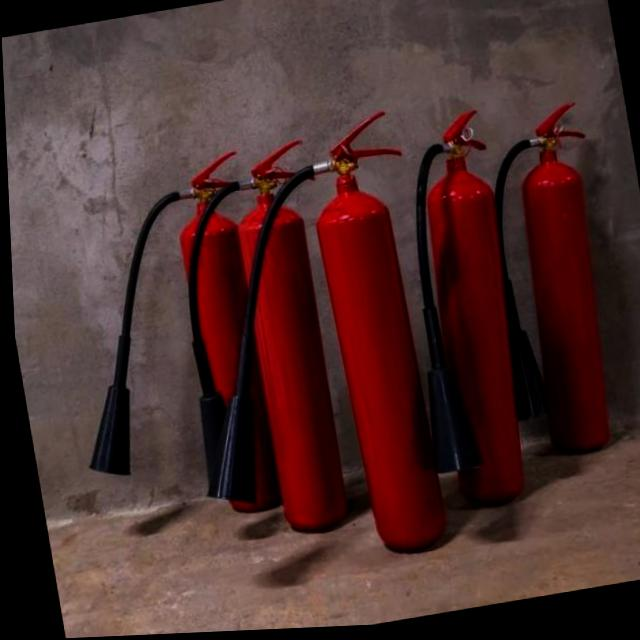FireExtinguisher: (139, 106, 466, 593), (33, 142, 298, 546), (147, 134, 371, 553), (370, 105, 544, 524), (460, 98, 639, 476)
